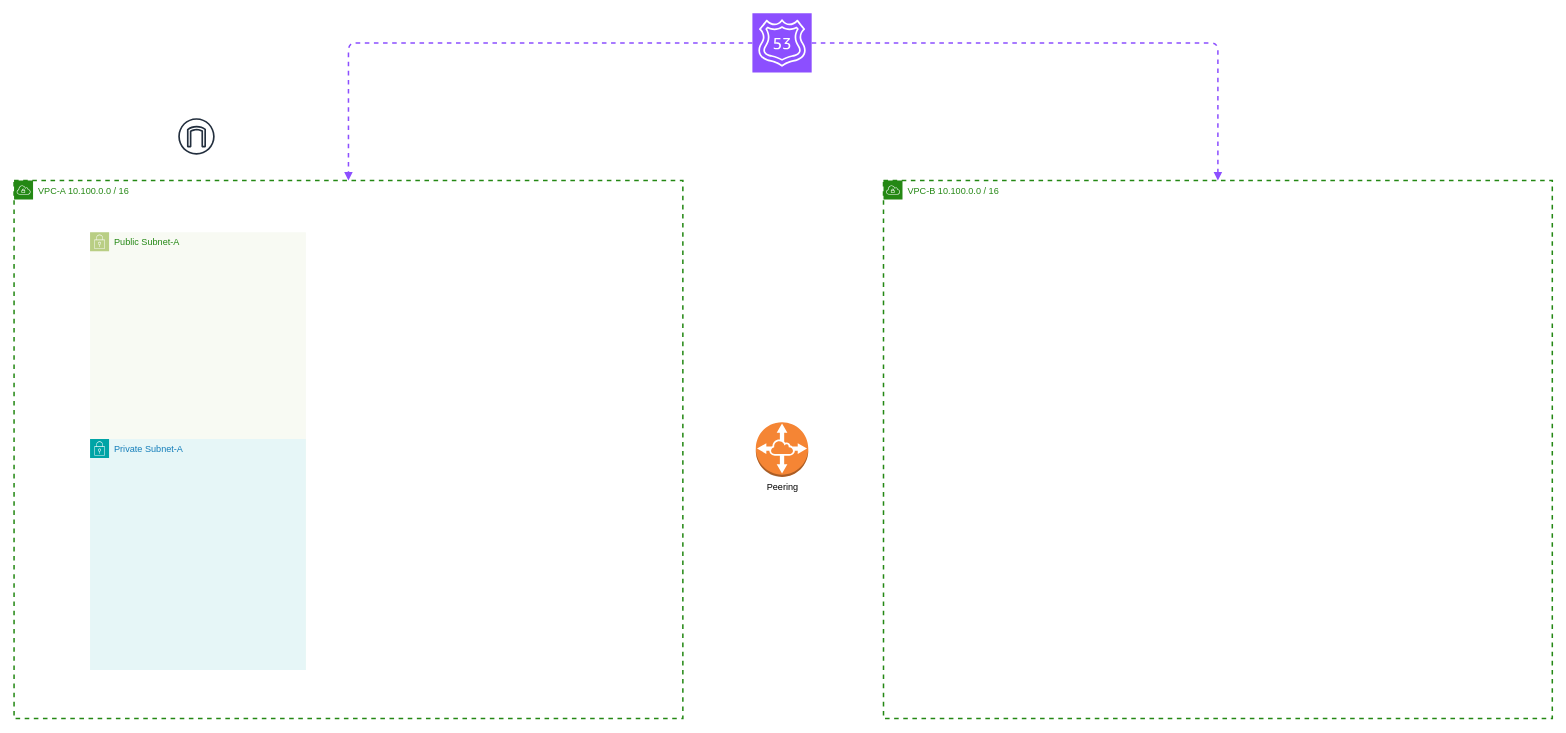
Some shapes in this 1566 by 733 pixel diagram are drawn without their labels. Each missing label, with the centre of its shape:
"IGW" goes at (196,136).
"Route 53 proje.local" goes at (782,43).
